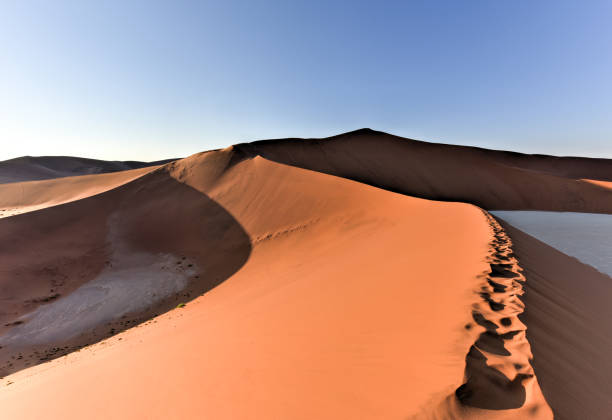human_footprint: (460, 206, 538, 413)
